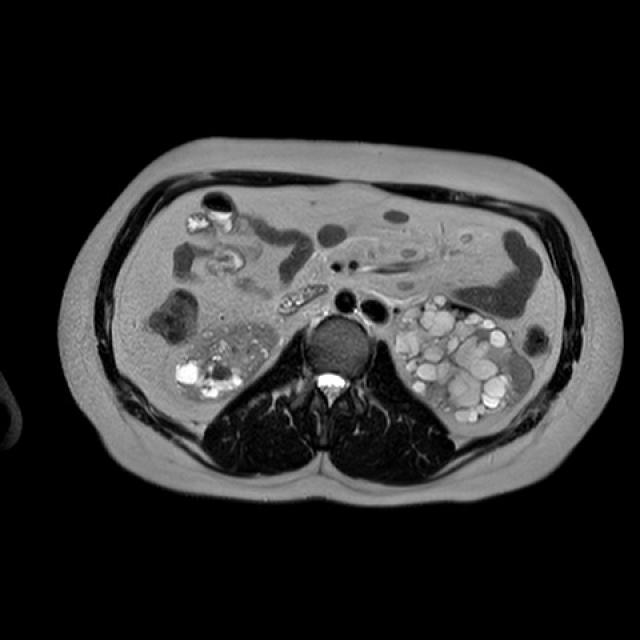sag: (175, 320, 282, 405)
sol: (396, 291, 534, 426)
